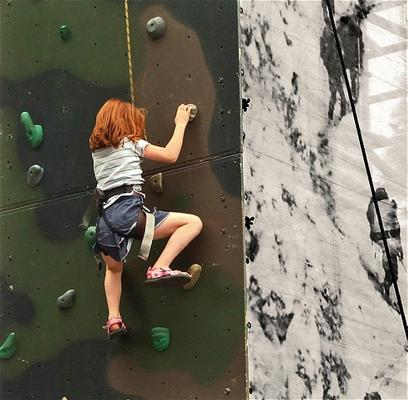person: (90, 98, 204, 342)
